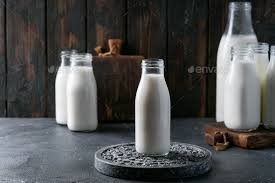milk: (215, 16, 275, 143), (132, 52, 173, 159), (56, 41, 100, 132)
